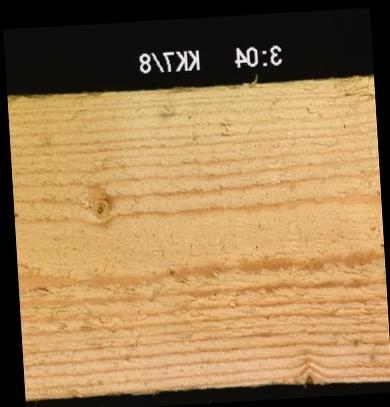edge_knot: (295, 360, 319, 386)
small_knot: (74, 179, 117, 226)
